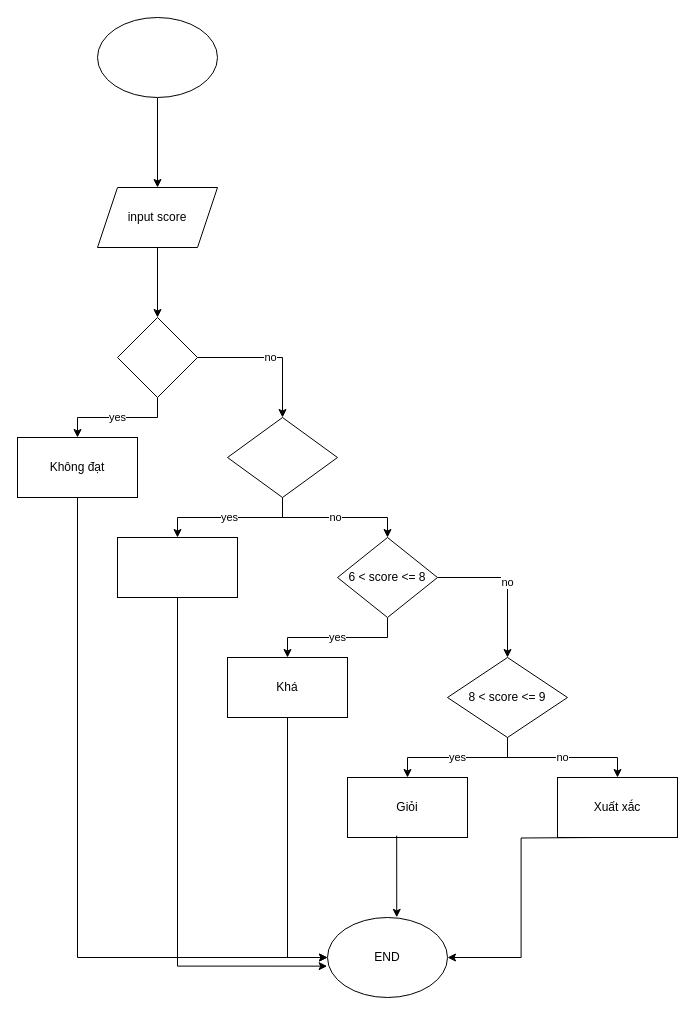
The diagram is 695 pixels wide and 1015 high, and some of its shapes have lost their labels. Each missing label, with the centre of its shape:
4 <= score <= 6: pixel 282 457
score < 4?: pixel 157 357
START: pixel 157 57
Trung bình: pixel 177 567
